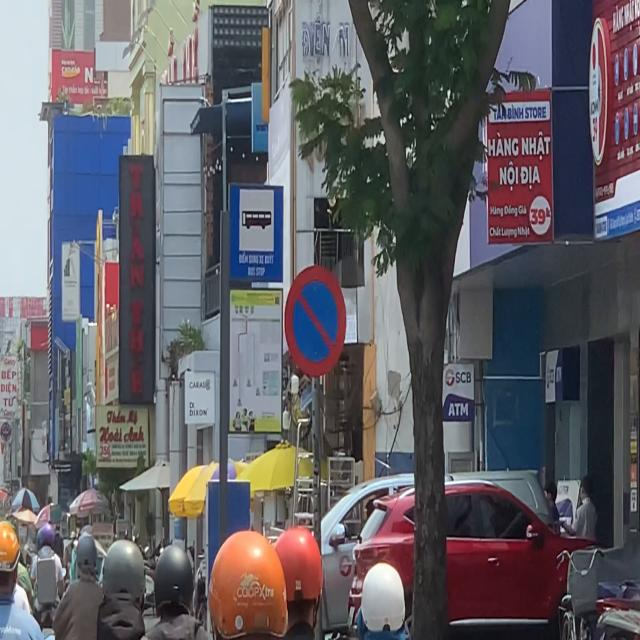Cam do: (285, 261, 349, 379)
